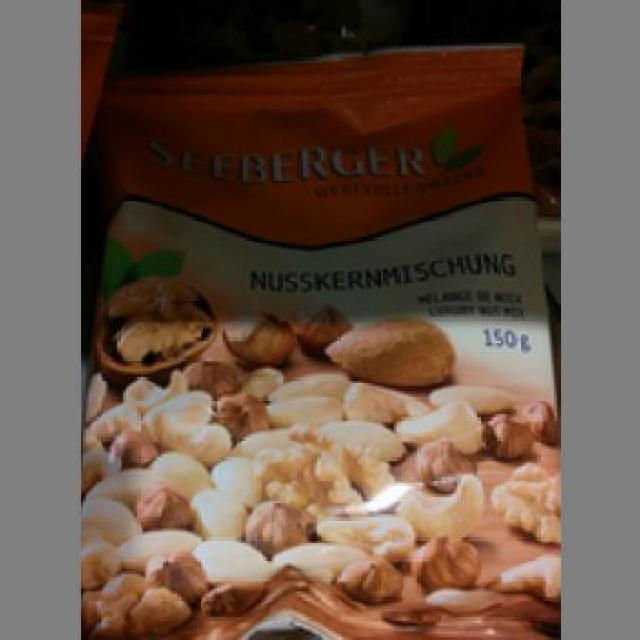Nuts: (83, 40, 560, 637)
